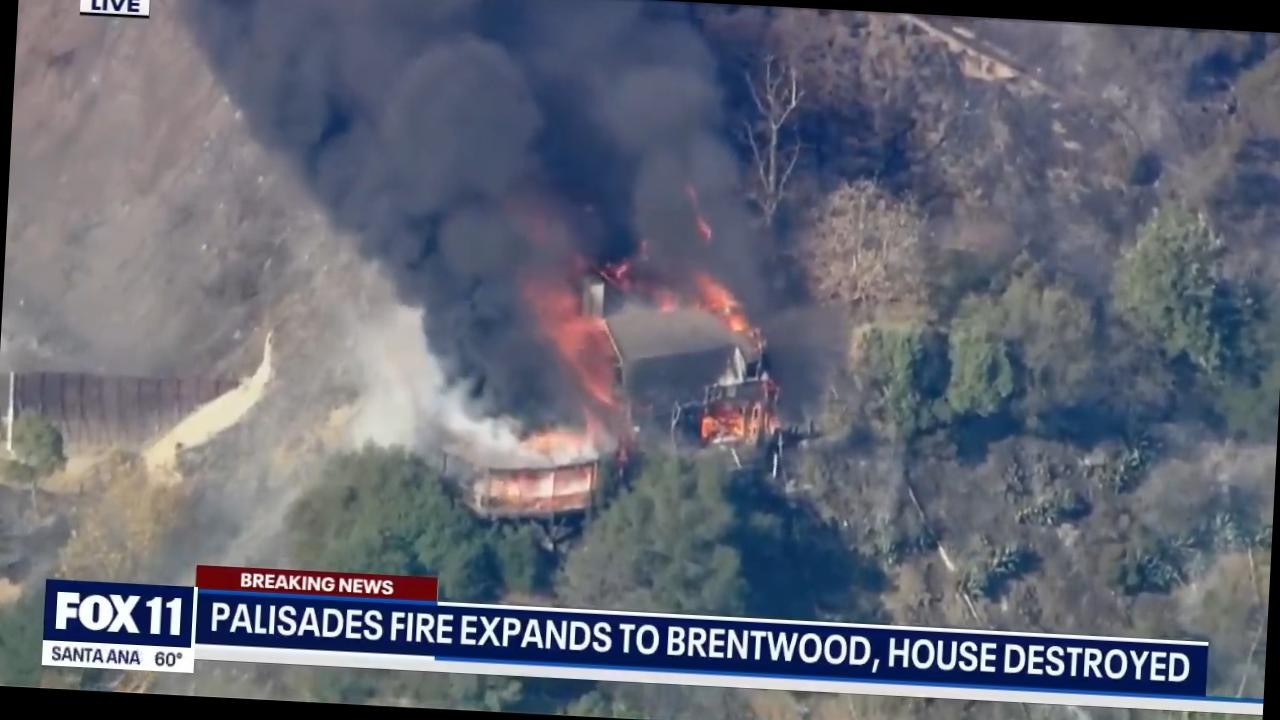Smoke: (159, 0, 773, 421)
